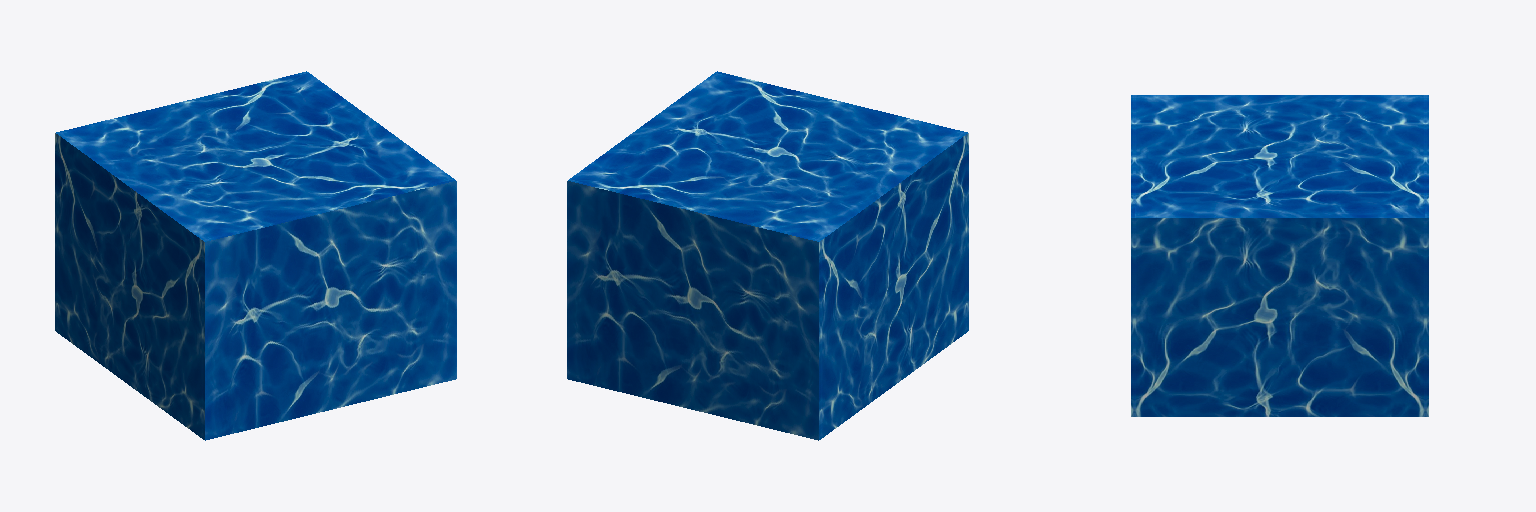
The picture shows the model from 3 angles: view 1: azimuth 30°, elevation 25°; view 2: azimuth 150°, elevation 25°; view 3: azimuth 270°, elevation 25°; orthographic projection.
Parts seen in each view (by area): view 1: ����001; view 2: ����001; view 3: ����001.
Part boxes in pixels (x1,y1,x2,y2): ����001: (55,71,456,440); ����001: (567,71,968,440); ����001: (1131,95,1428,416).
Bounding box in the file's own units: 2.12 × 1.6 × 2.18.
Materials: 1 (1 with a texture image).